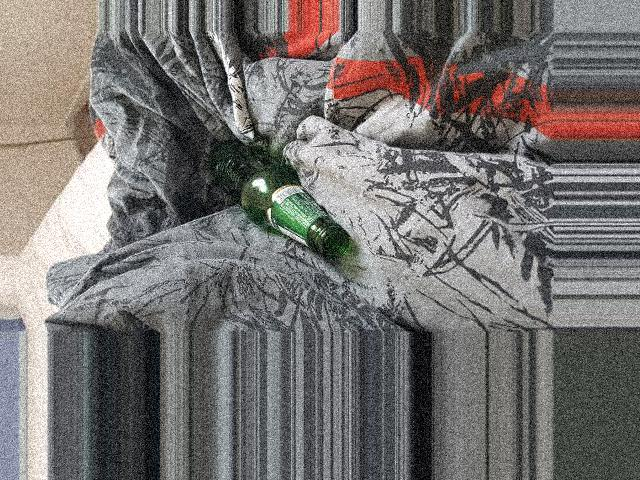beer: (209, 138, 349, 257)
